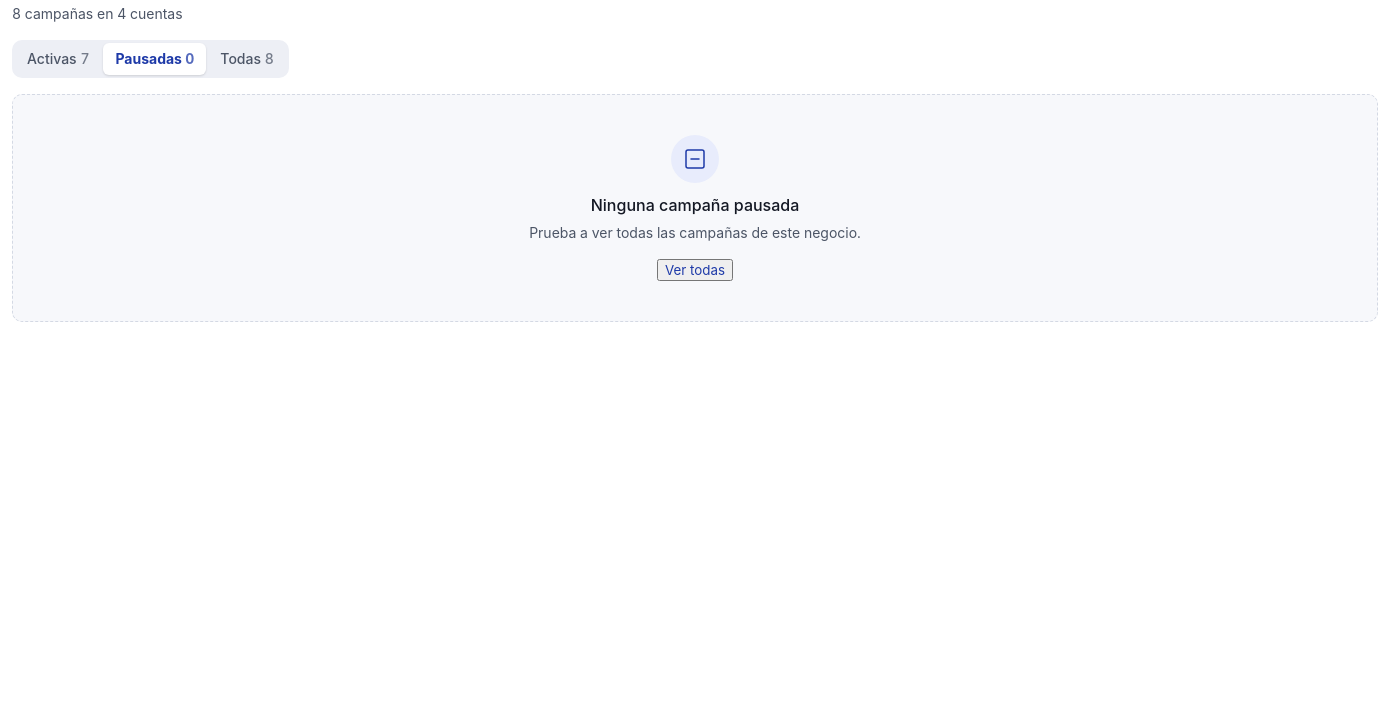
Test case: CampanasPage — pestañas Activas/Pausadas/Todas › pestaña vacía: título contextual y «Ver todas» cambia a Todas
The width and height of the screenshot is (1390, 706).
Check: the text "Ninguna campaña pausada" is shown, box [591,194,799,214]
Click the button "Ver todas" at {"x": 695, "y": 270}, box [657,258,733,280]
(page scrolled)
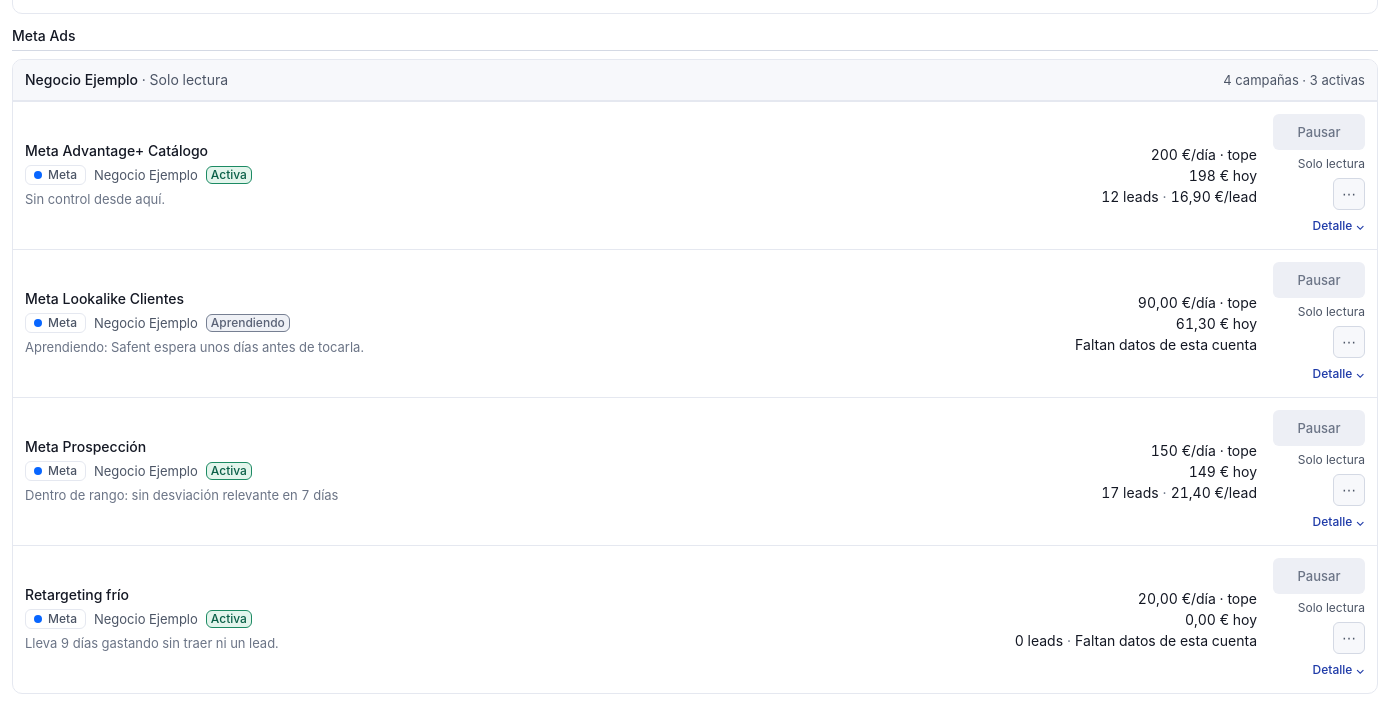
Check: the text "Retargeting frío" is shown, box [25,586,129,603]
